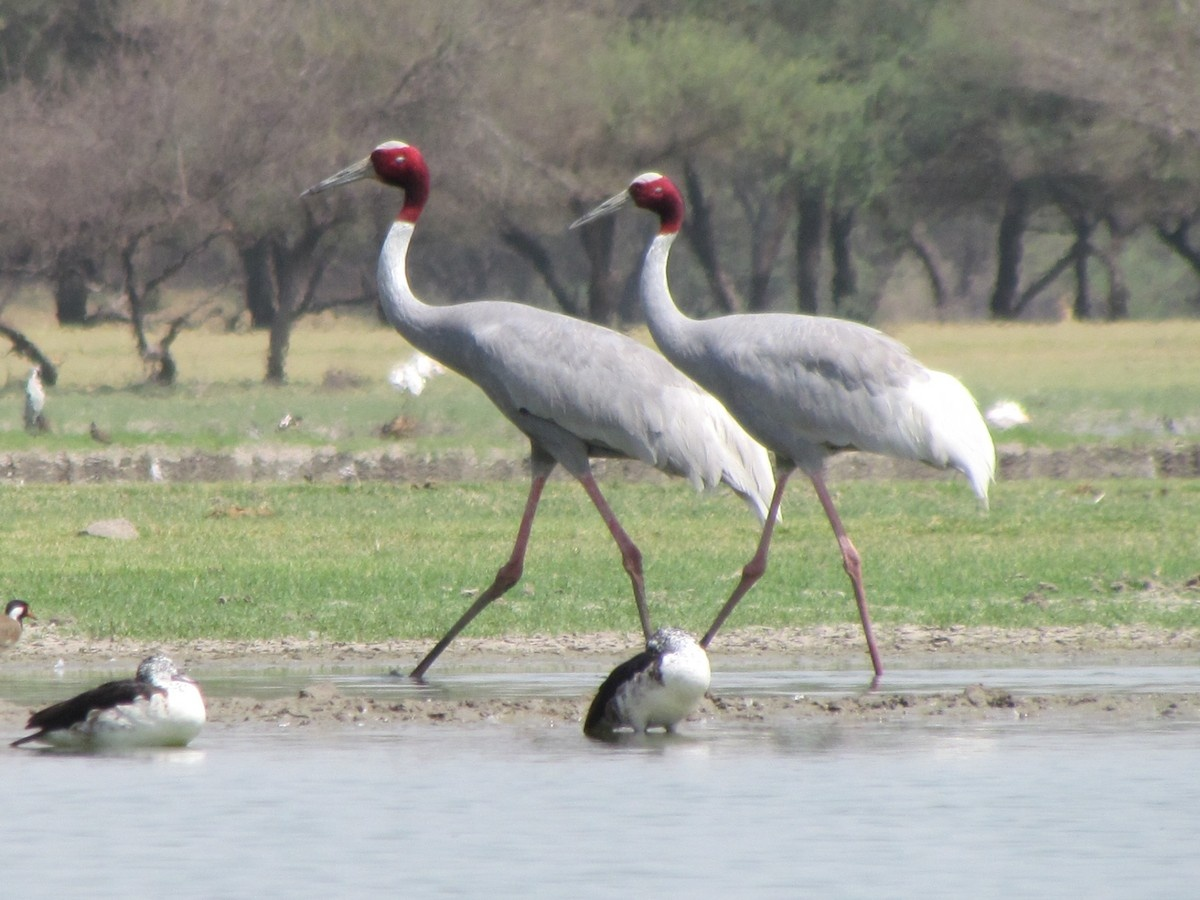crane: (291, 130, 773, 676), (565, 162, 1015, 689)
